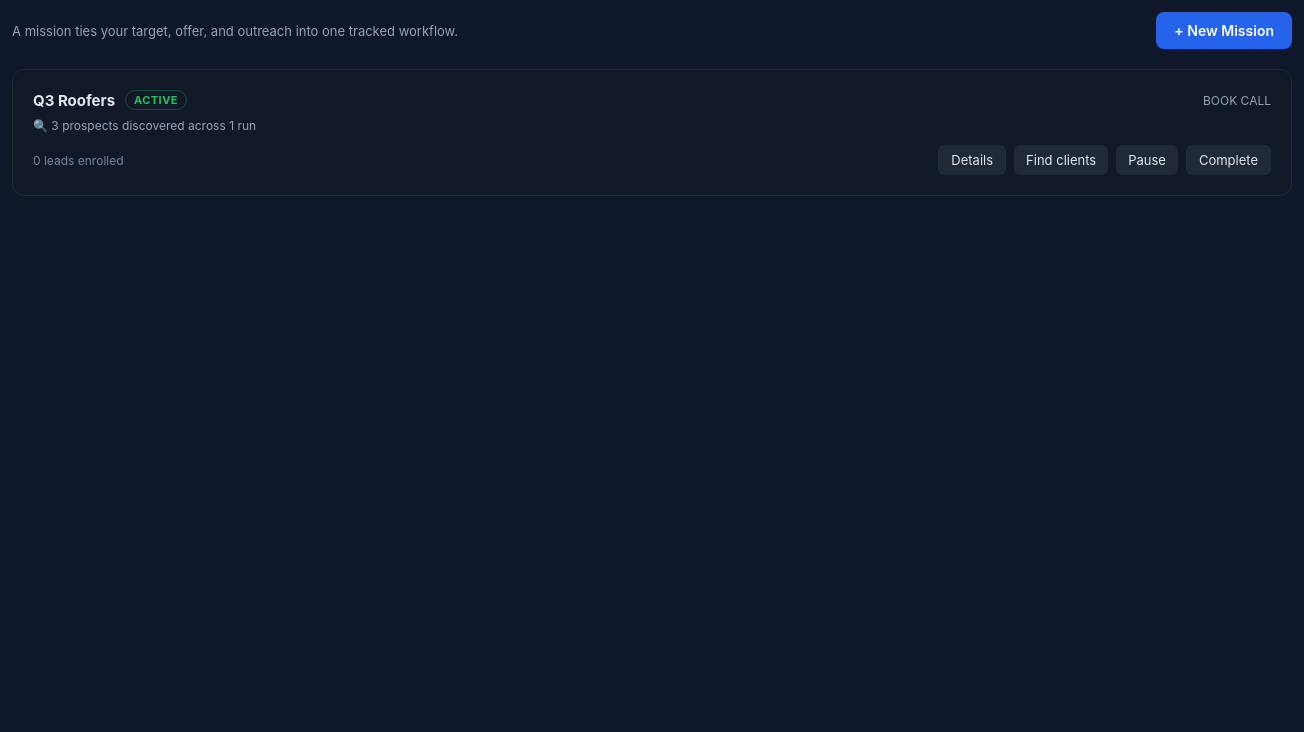
Test case: MissionsView control plane › expanding a mission shows the funnel strip, readiness, and recommendation evidence
Expected: the text "Q3 Roofers" is shown, x1=33 y1=90 x2=115 y2=110
Click the button "Details" at [972, 160], box x1=938 y1=145 x2=1006 y2=175
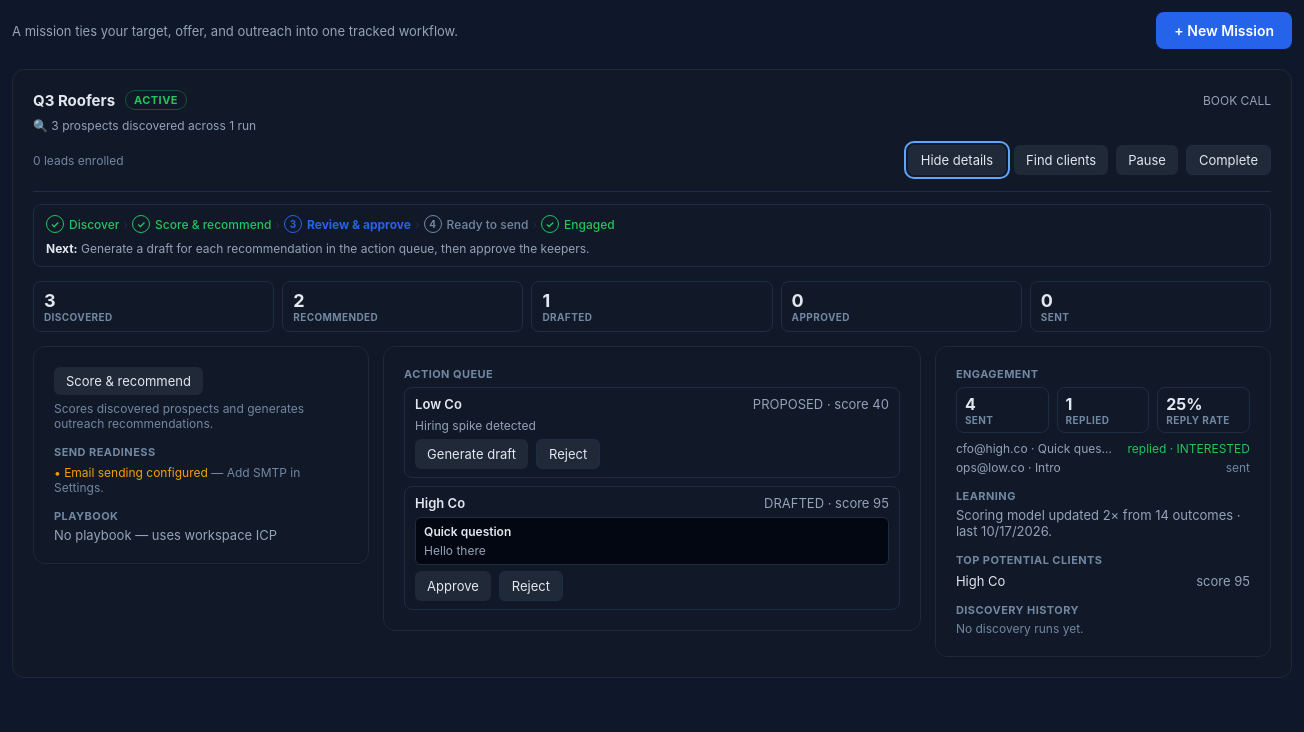
Expected: the text "Send readiness" is shown, x1=54 y1=445 x2=156 y2=459
Expected: the text "Discovered" is shown, x1=44 y1=311 x2=113 y2=323
Expected: the text "Recommended" is shown, x1=293 y1=311 x2=378 y2=323
